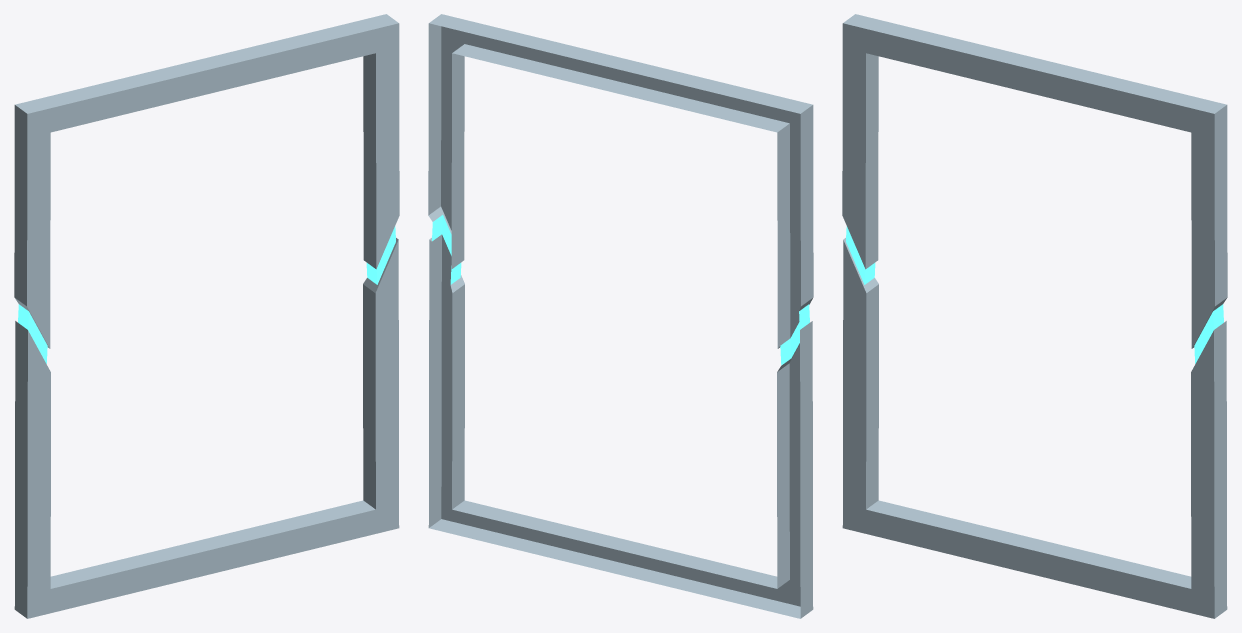
Rendered from PictureFrame.fbx.
The picture shows the model from 3 angles, left to right: view 1: azimuth 30°, elevation 25°; view 2: azimuth 150°, elevation 25°; view 3: azimuth 330°, elevation 25°; orthographic projection.
Visible parts, largest first — view 1: Plane; view 2: Plane; view 3: Plane.
Boxes of the visible parts, <box> form: Plane: <box>14,14,399,618</box>; Plane: <box>428,14,813,618</box>; Plane: <box>842,14,1227,618</box>.
Size of the model in its own units: 232 by 301 by 13.64.
